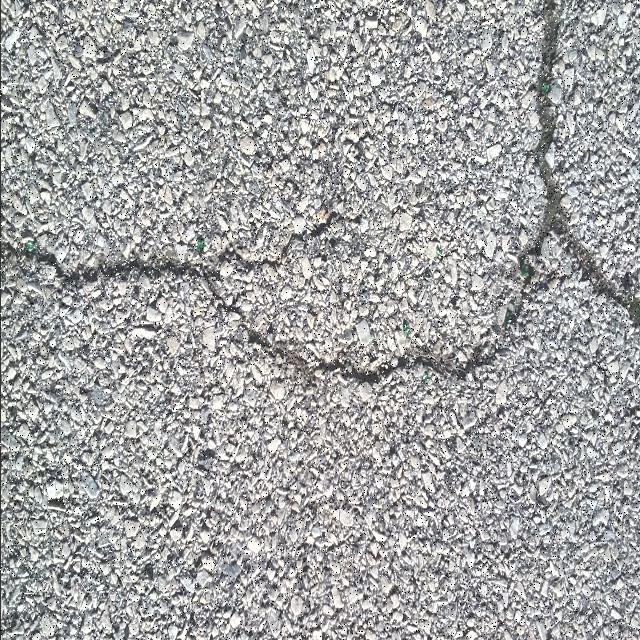Crack: (0, 0, 640, 390)
